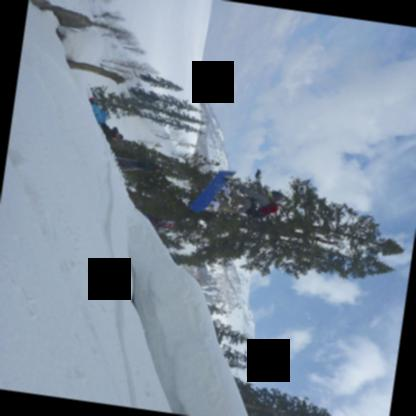backpack: (245, 198, 272, 218)
